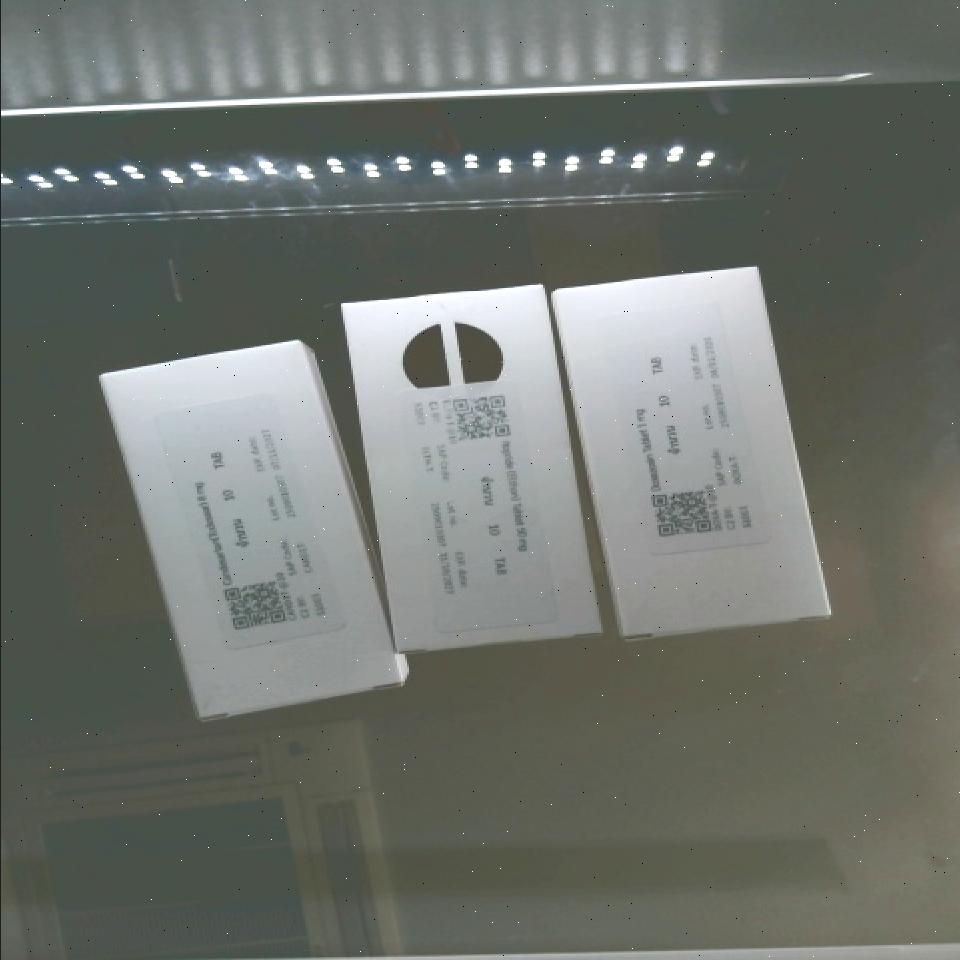medicine_box: (95, 319, 396, 734), (558, 247, 826, 652), (341, 269, 596, 662)
qr_code: (204, 559, 312, 650), (634, 471, 732, 556), (437, 381, 521, 452)
